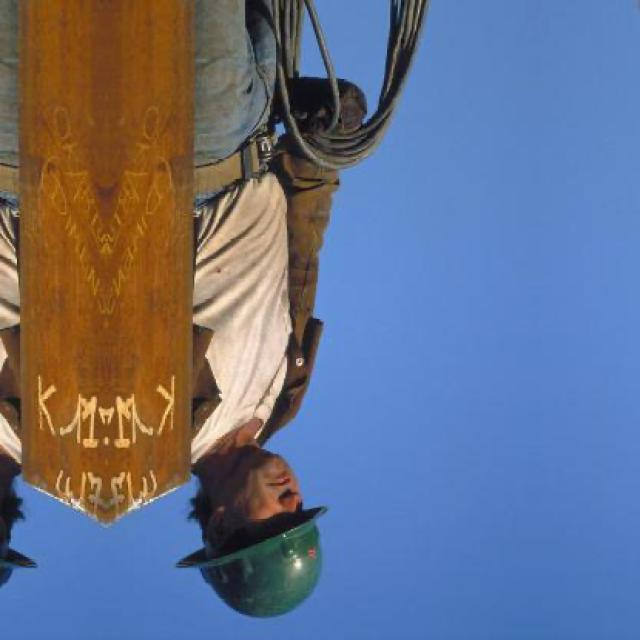con casco: (152, 434, 340, 628)
